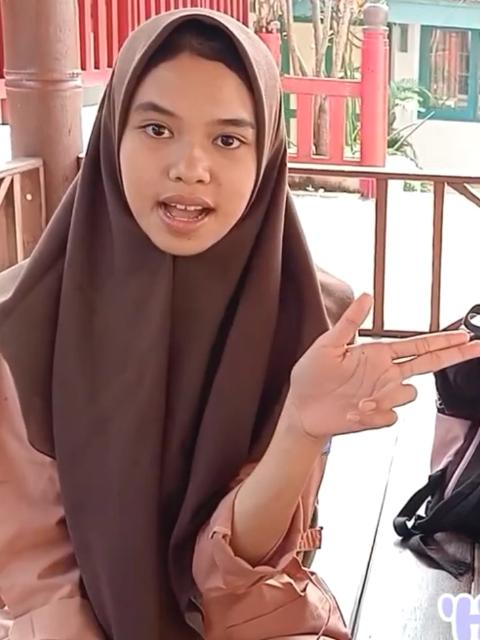H: (286, 290, 480, 440)
